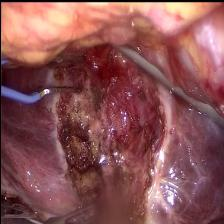Bipolar: (0, 43, 83, 106)
Grasper: (50, 202, 102, 224)
